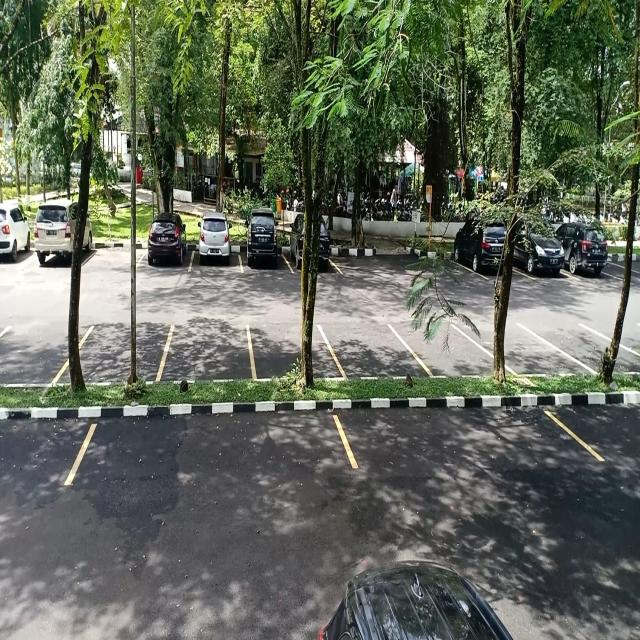empty: (72, 402, 350, 494), (344, 407, 572, 480), (66, 305, 169, 377), (165, 318, 252, 380), (331, 322, 415, 378), (414, 318, 493, 376), (252, 320, 331, 377), (501, 319, 569, 377), (88, 227, 141, 280)
occupied: (137, 221, 193, 275), (241, 220, 288, 275), (192, 224, 242, 275)
